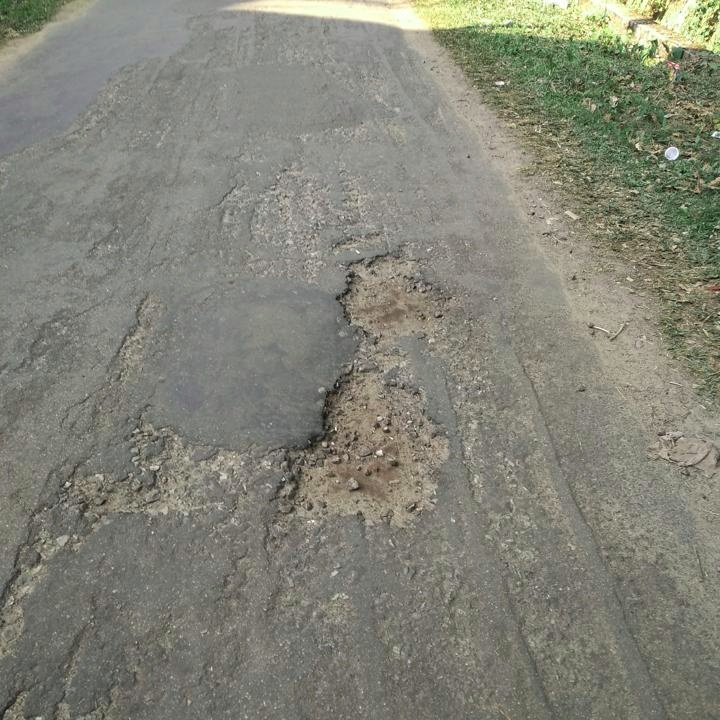pothole: (281, 361, 453, 527), (59, 427, 227, 521), (334, 242, 448, 335)
